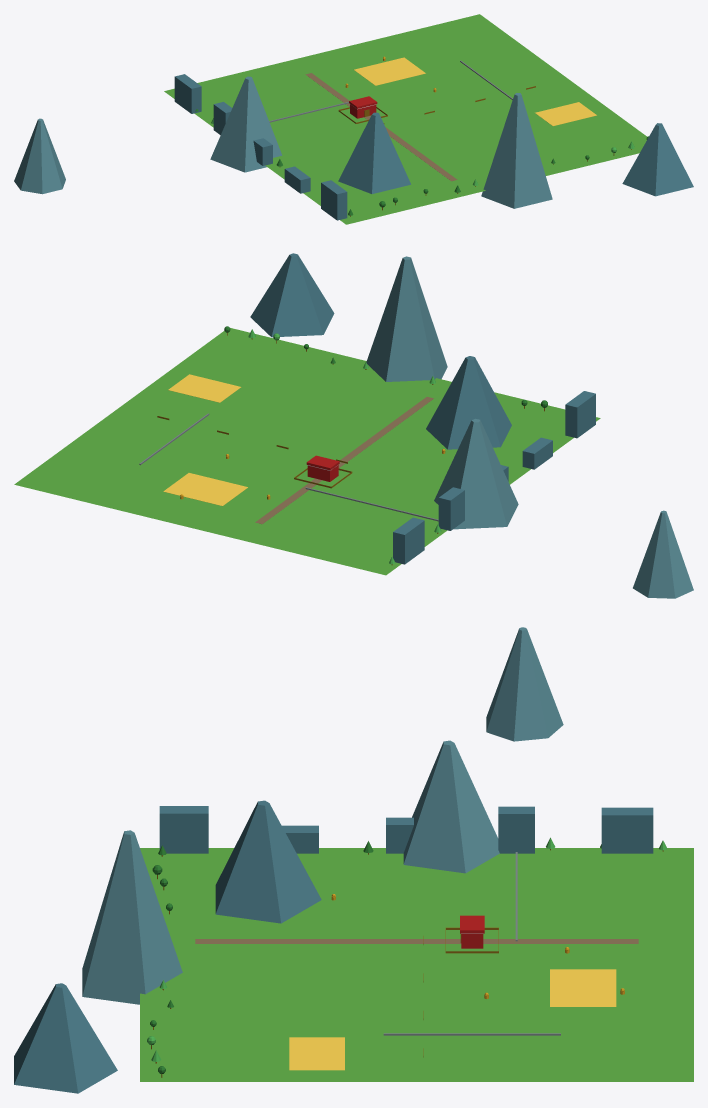
Rendered from sector_r3_c0.glb.
3 renders of one model, top to bottom at view 1: azimuth 30°, elevation 25°; view 2: azimuth 150°, elevation 25°; view 3: azimuth 270°, elevation 25°, orthographic. The views are drawn at different scales.
Parts seen in each view (by area): view 1: GROUND_r3_c0, MOUNTAIN_26, MOUNTAIN_24, MOUNTAIN_25, MOUNTAIN_27, MOUNTAIN_23, GROUND_CropField_0, WALL_WestCliff_4, WALL_WestCliff_0, GROUND_CropField_1, ROAD_Dirt_29, WALL_WestCliff_1 (+2 smaller); view 2: GROUND_r3_c0, MOUNTAIN_26, MOUNTAIN_24, MOUNTAIN_27, MOUNTAIN_25, MOUNTAIN_23, GROUND_CropField_0, ROAD_Dirt_29, WALL_WestCliff_0, WALL_WestCliff_4, GROUND_CropField_1, WALL_WestCliff_3 (+1 smaller); view 3: GROUND_r3_c0, MOUNTAIN_26, MOUNTAIN_25, MOUNTAIN_24, MOUNTAIN_27, MOUNTAIN_23, GROUND_CropField_0, WALL_WestCliff_4, WALL_WestCliff_0, ROAD_Dirt_29, GROUND_CropField_1, WALL_WestCliff_3 (+2 smaller).
Part boxes in pixels (<box>): GROUND_r3_c0: <box>164,14,646,224</box>; MOUNTAIN_26: <box>481,93,552,208</box>; MOUNTAIN_24: <box>210,76,282,172</box>; MOUNTAIN_25: <box>338,112,410,193</box>; MOUNTAIN_27: <box>622,123,693,196</box>; MOUNTAIN_23: <box>14,118,65,194</box>; GROUND_CropField_0: <box>354,57,425,85</box>; WALL_WestCliff_4: <box>174,74,201,113</box>; WALL_WestCliff_0: <box>321,180,347,220</box>; GROUND_CropField_1: <box>535,102,596,126</box>; ROAD_Dirt_29: <box>305,73,457,181</box>; WALL_WestCliff_1: <box>284,166,310,193</box>; GROUND_r3_c0: <box>14,328,600,575</box>; MOUNTAIN_26: <box>366,256,447,381</box>; MOUNTAIN_24: <box>434,418,518,529</box>; MOUNTAIN_27: <box>250,253,334,337</box>; MOUNTAIN_25: <box>426,356,511,449</box>; MOUNTAIN_23: <box>633,510,693,598</box>; GROUND_CropField_0: <box>163,473,247,505</box>; ROAD_Dirt_29: <box>255,397,433,524</box>; WALL_WestCliff_0: <box>565,391,595,438</box>; WALL_WestCliff_4: <box>393,517,424,564</box>; GROUND_CropField_1: <box>168,374,241,402</box>; WALL_WestCliff_3: <box>438,487,464,530</box>; GROUND_r3_c0: <box>140,848,693,1081</box>; MOUNTAIN_26: <box>82,830,182,1004</box>; MOUNTAIN_25: <box>215,800,321,923</box>; MOUNTAIN_24: <box>403,740,499,873</box>; MOUNTAIN_27: <box>14,983,117,1093</box>; MOUNTAIN_23: <box>486,627,563,741</box>; GROUND_CropField_0: <box>550,969,616,1006</box>; WALL_WestCliff_4: <box>601,807,653,853</box>; WALL_WestCliff_0: <box>159,806,208,853</box>; ROAD_Dirt_29: <box>195,939,638,943</box>; GROUND_CropField_1: <box>289,1037,344,1070</box>; WALL_WestCliff_3: <box>498,806,534,853</box>.
Size of the model in its own units: 412 by 74.68 by 307.
